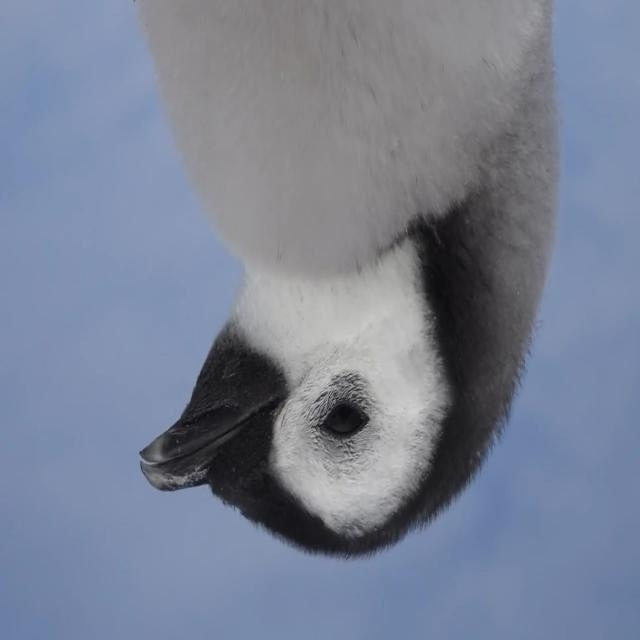penguin: (131, 3, 580, 563)
